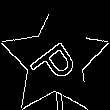P_NE: (26, 31, 84, 90)
